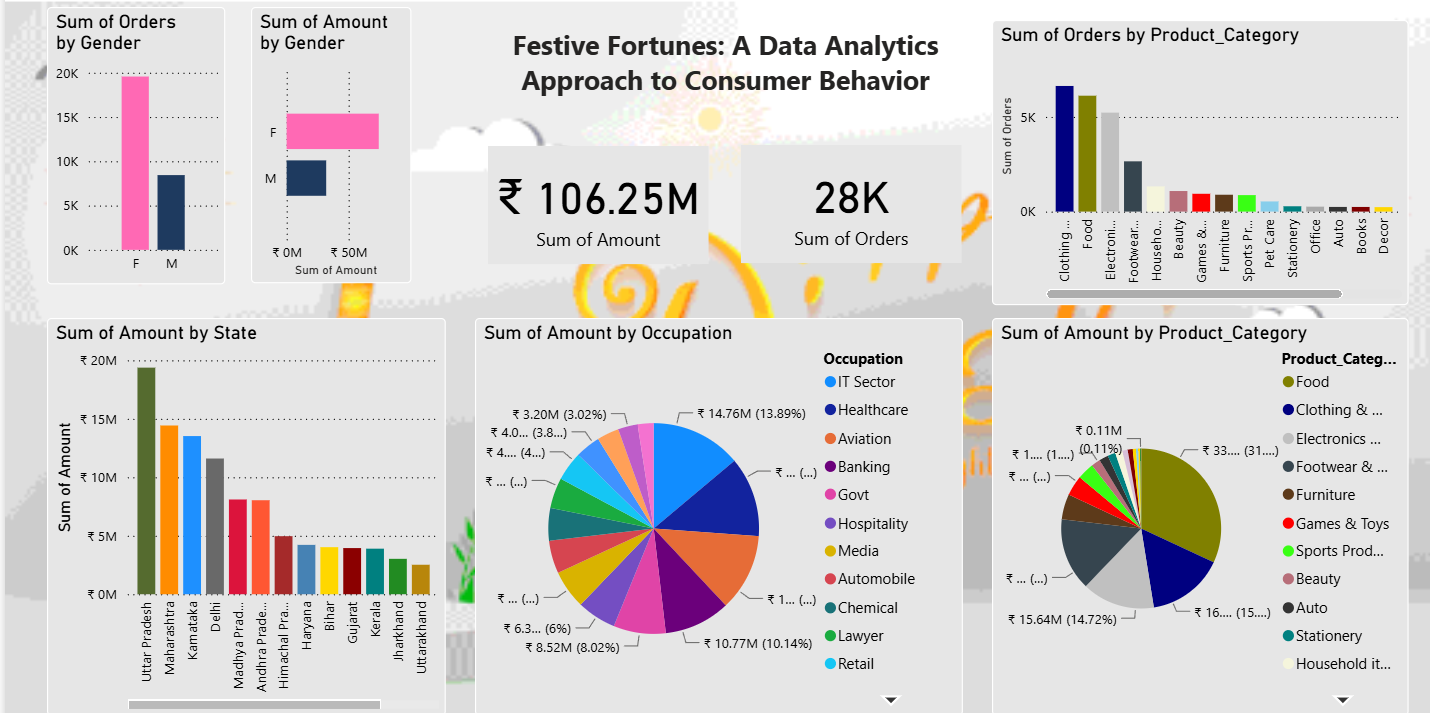

This screenshot's page, from the dashboard's own definition file:
{"tool":"powerbi","page":{"name":"Page 1","canvas":[1280,720],"ordinal":0},"visuals":[{"type":"columnChart","fields":{"Category":["Diwali Sales Data.State"],"Y":["Sum(Diwali Sales Data.Amount)"]},"box":[37.4,322,358.2,357],"z":0},{"type":"lineClusteredColumnComboChart","fields":{"Category":["Diwali Sales Data.Gender"],"Y":["Sum(Diwali Sales Data.Orders)"]},"box":[38,43,160,249],"z":1000},{"type":"barChart","fields":{"Category":["Diwali Sales Data.Gender"],"Y":["Sum(Diwali Sales Data.Amount)"]},"box":[221,43,144,248],"z":2000},{"type":"pieChart","fields":{"Category":["Diwali Sales Data.Occupation"],"Y":["Sum(Diwali Sales Data.Amount)"]},"box":[422.1,322,437.8,357],"z":3000},{"type":"pieChart","fields":{"Category":["Diwali Sales Data.Product_Category"],"Y":["Sum(Diwali Sales Data.Amount)"]},"box":[886.4,322,373.9,357],"z":4000},{"type":"lineClusteredColumnComboChart","fields":{"Category":["Diwali Sales Data.Product_Category"],"Y":["Sum(Diwali Sales Data.Orders)"]},"box":[886,55,374,256],"z":5000},{"type":"textbox","box":[433.6,54.8,426.4,112.2],"z":6000},{"type":"card","fields":{"Values":["Sum(Diwali Sales Data.Amount)"]},"box":[433.6,167.9,198,106.3],"z":7000},{"type":"card","fields":{"Values":["Sum(Diwali Sales Data.Orders)"]},"box":[660.7,167,198,106.3],"z":8000}]}

Visuals, with their boxes on the page's 1280x720 design canvas (x1, y1, x2, y2). These are canvas units, not pixel positions in the 1430x713 screenshot, which may show the page scaled, cropped or inside an application window:
columnChart - Diwali Sales Data.State x Sum(Diwali Sales Data.Amount): box=[37, 322, 396, 679]
lineClusteredColumnComboChart - Diwali Sales Data.Gender x Sum(Diwali Sales Data.Orders): box=[38, 43, 198, 292]
barChart - Diwali Sales Data.Gender x Sum(Diwali Sales Data.Amount): box=[221, 43, 365, 291]
pieChart - Diwali Sales Data.Occupation x Sum(Diwali Sales Data.Amount): box=[422, 322, 860, 679]
pieChart - Diwali Sales Data.Product_Category x Sum(Diwali Sales Data.Amount): box=[886, 322, 1260, 679]
lineClusteredColumnComboChart - Diwali Sales Data.Product_Category x Sum(Diwali Sales Data.Orders): box=[886, 55, 1260, 311]
textbox: box=[434, 55, 860, 167]
card - Sum(Diwali Sales Data.Amount): box=[434, 168, 632, 274]
card - Sum(Diwali Sales Data.Orders): box=[661, 167, 859, 273]
